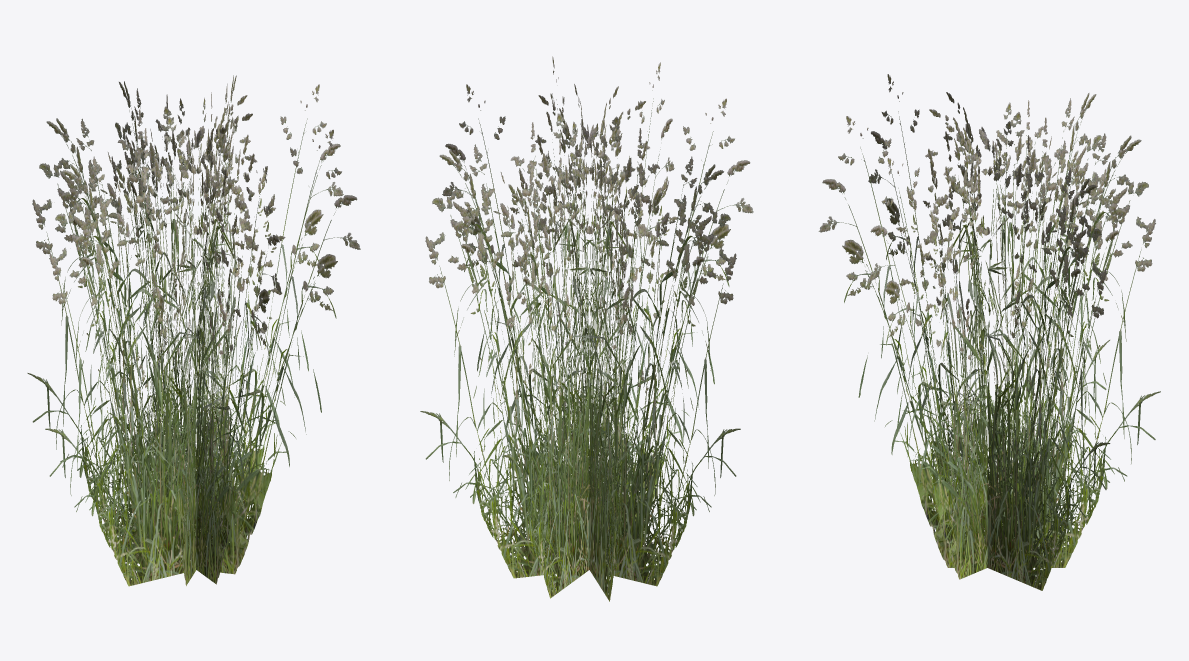
Rendered from Grass_With_Blubs.fbx.
3 renders of one model, left to right at view 1: azimuth 30°, elevation 25°; view 2: azimuth 150°, elevation 25°; view 3: azimuth 270°, elevation 25°, orthographic.
Parts seen in each view (by area): view 1: Grass04, Grass03, Grass01, Grass02; view 2: Grass02, Grass04, Grass01, Grass03; view 3: Grass01, Grass02, Grass03.
Boxes of the visible parts, x1,y1,x2,y2 form: Grass04: (45, 84, 343, 586); Grass03: (27, 106, 360, 574); Grass01: (109, 81, 281, 584); Grass02: (152, 75, 241, 585); Grass02: (420, 98, 753, 578); Grass04: (442, 84, 740, 586); Grass01: (502, 62, 674, 598); Grass03: (546, 56, 634, 601); Grass01: (818, 109, 1160, 567); Grass02: (868, 74, 1110, 590); Grass03: (868, 93, 1109, 579).
Size of the model in its own units: 25 by 35 by 25.
